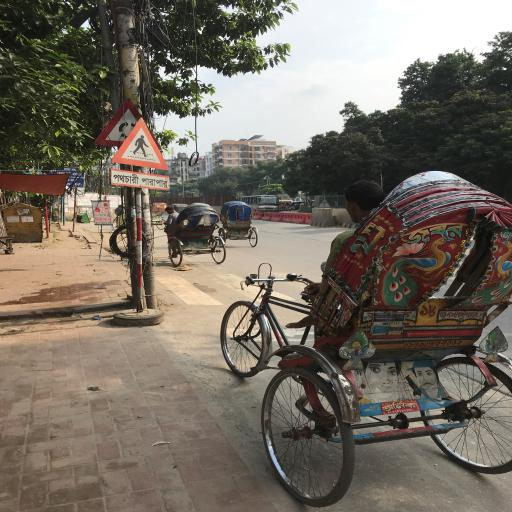bus: (258, 196, 280, 215)
rickshaw: (291, 171, 511, 511), (167, 205, 227, 267), (218, 201, 256, 248), (153, 204, 167, 231), (280, 204, 287, 213)
